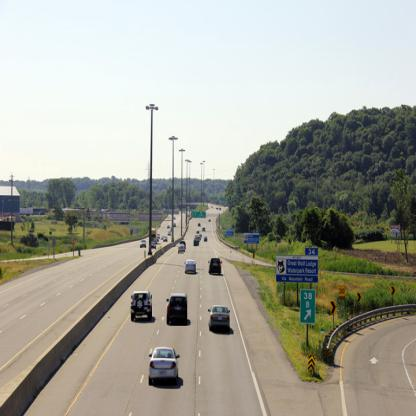car: (145, 350, 185, 388), (163, 292, 189, 328), (209, 307, 232, 340), (131, 293, 154, 324), (210, 259, 227, 275), (184, 261, 198, 277), (141, 240, 147, 250), (179, 247, 185, 256), (204, 237, 209, 244), (195, 241, 199, 248), (164, 238, 168, 242)
truck: (152, 231, 157, 240)
